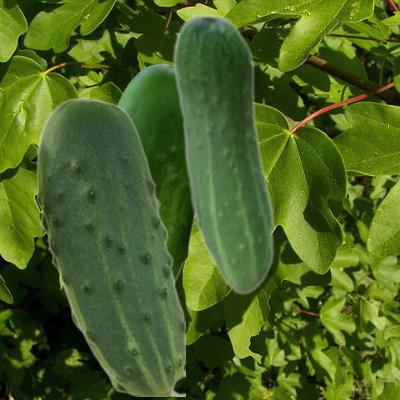cucumber: (36, 97, 184, 395), (172, 12, 275, 294), (116, 63, 194, 283)
